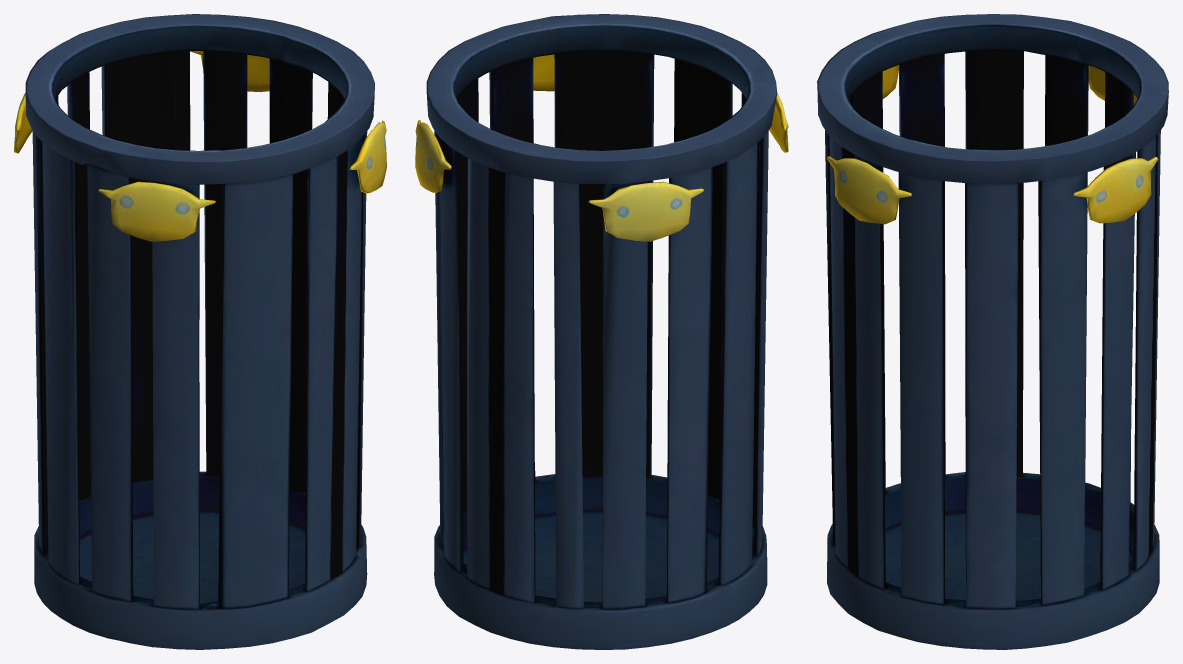
File: litter-basket.glb
The picture shows the model from 3 angles, left to right: view 1: azimuth 30°, elevation 25°; view 2: azimuth 150°, elevation 25°; view 3: azimuth 270°, elevation 25°; orthographic projection.
Parts seen in each view (by area): view 1: litter-basket; view 2: litter-basket; view 3: litter-basket.
Part boxes in pixels (x1=…): litter-basket: x1=14, y1=14, x2=386, y2=649; litter-basket: x1=415, y1=14, x2=788, y2=649; litter-basket: x1=817, y1=14, x2=1168, y2=649.
Bounding box in the file's own units: 0.5815 × 0.9 × 0.5825.
Materials: 1 (1 with a texture image).
